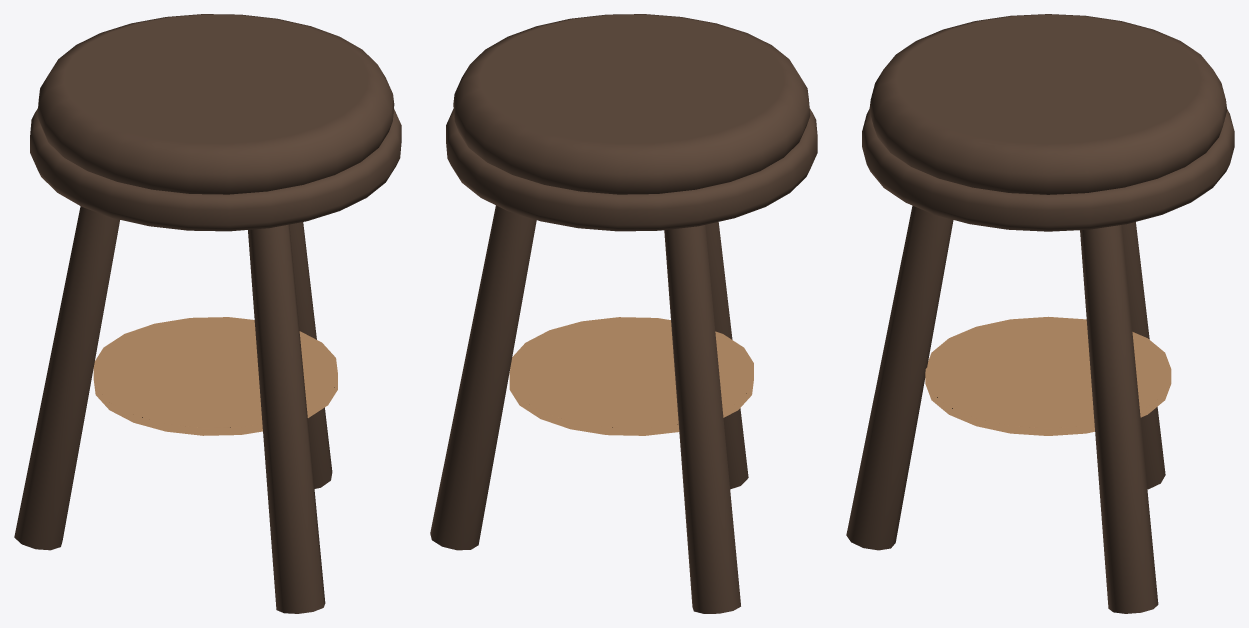
The model's file is stool.glb.
3 views of the same model, side by side, from view 1: azimuth 30°, elevation 25°; view 2: azimuth 150°, elevation 25°; view 3: azimuth 270°, elevation 25° (orthographic).
Parts seen in each view (by area): view 1: stool; view 2: stool; view 3: stool.
Boxes of the visible parts, x1=… form: stool: x1=14, y1=14, x2=401, y2=613; stool: x1=430, y1=14, x2=817, y2=613; stool: x1=846, y1=14, x2=1234, y2=613.
Bounding box in the file's own units: 0.3488 × 0.4807 × 0.3635.
